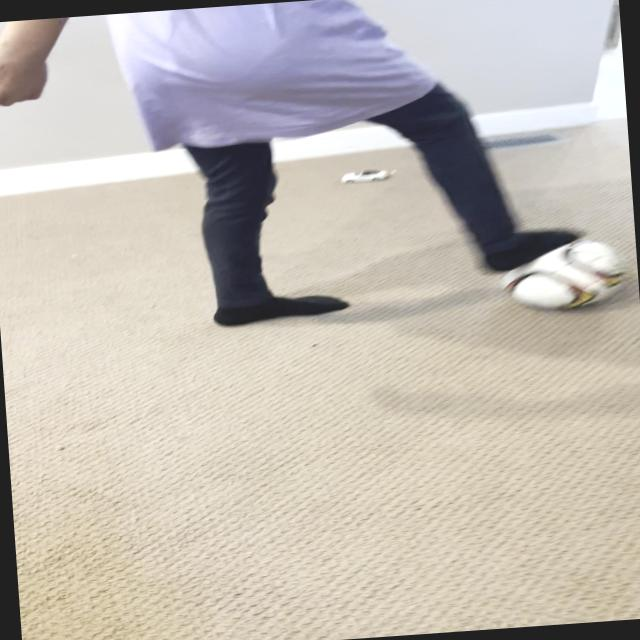Soccer Ball: (501, 232, 628, 314)
